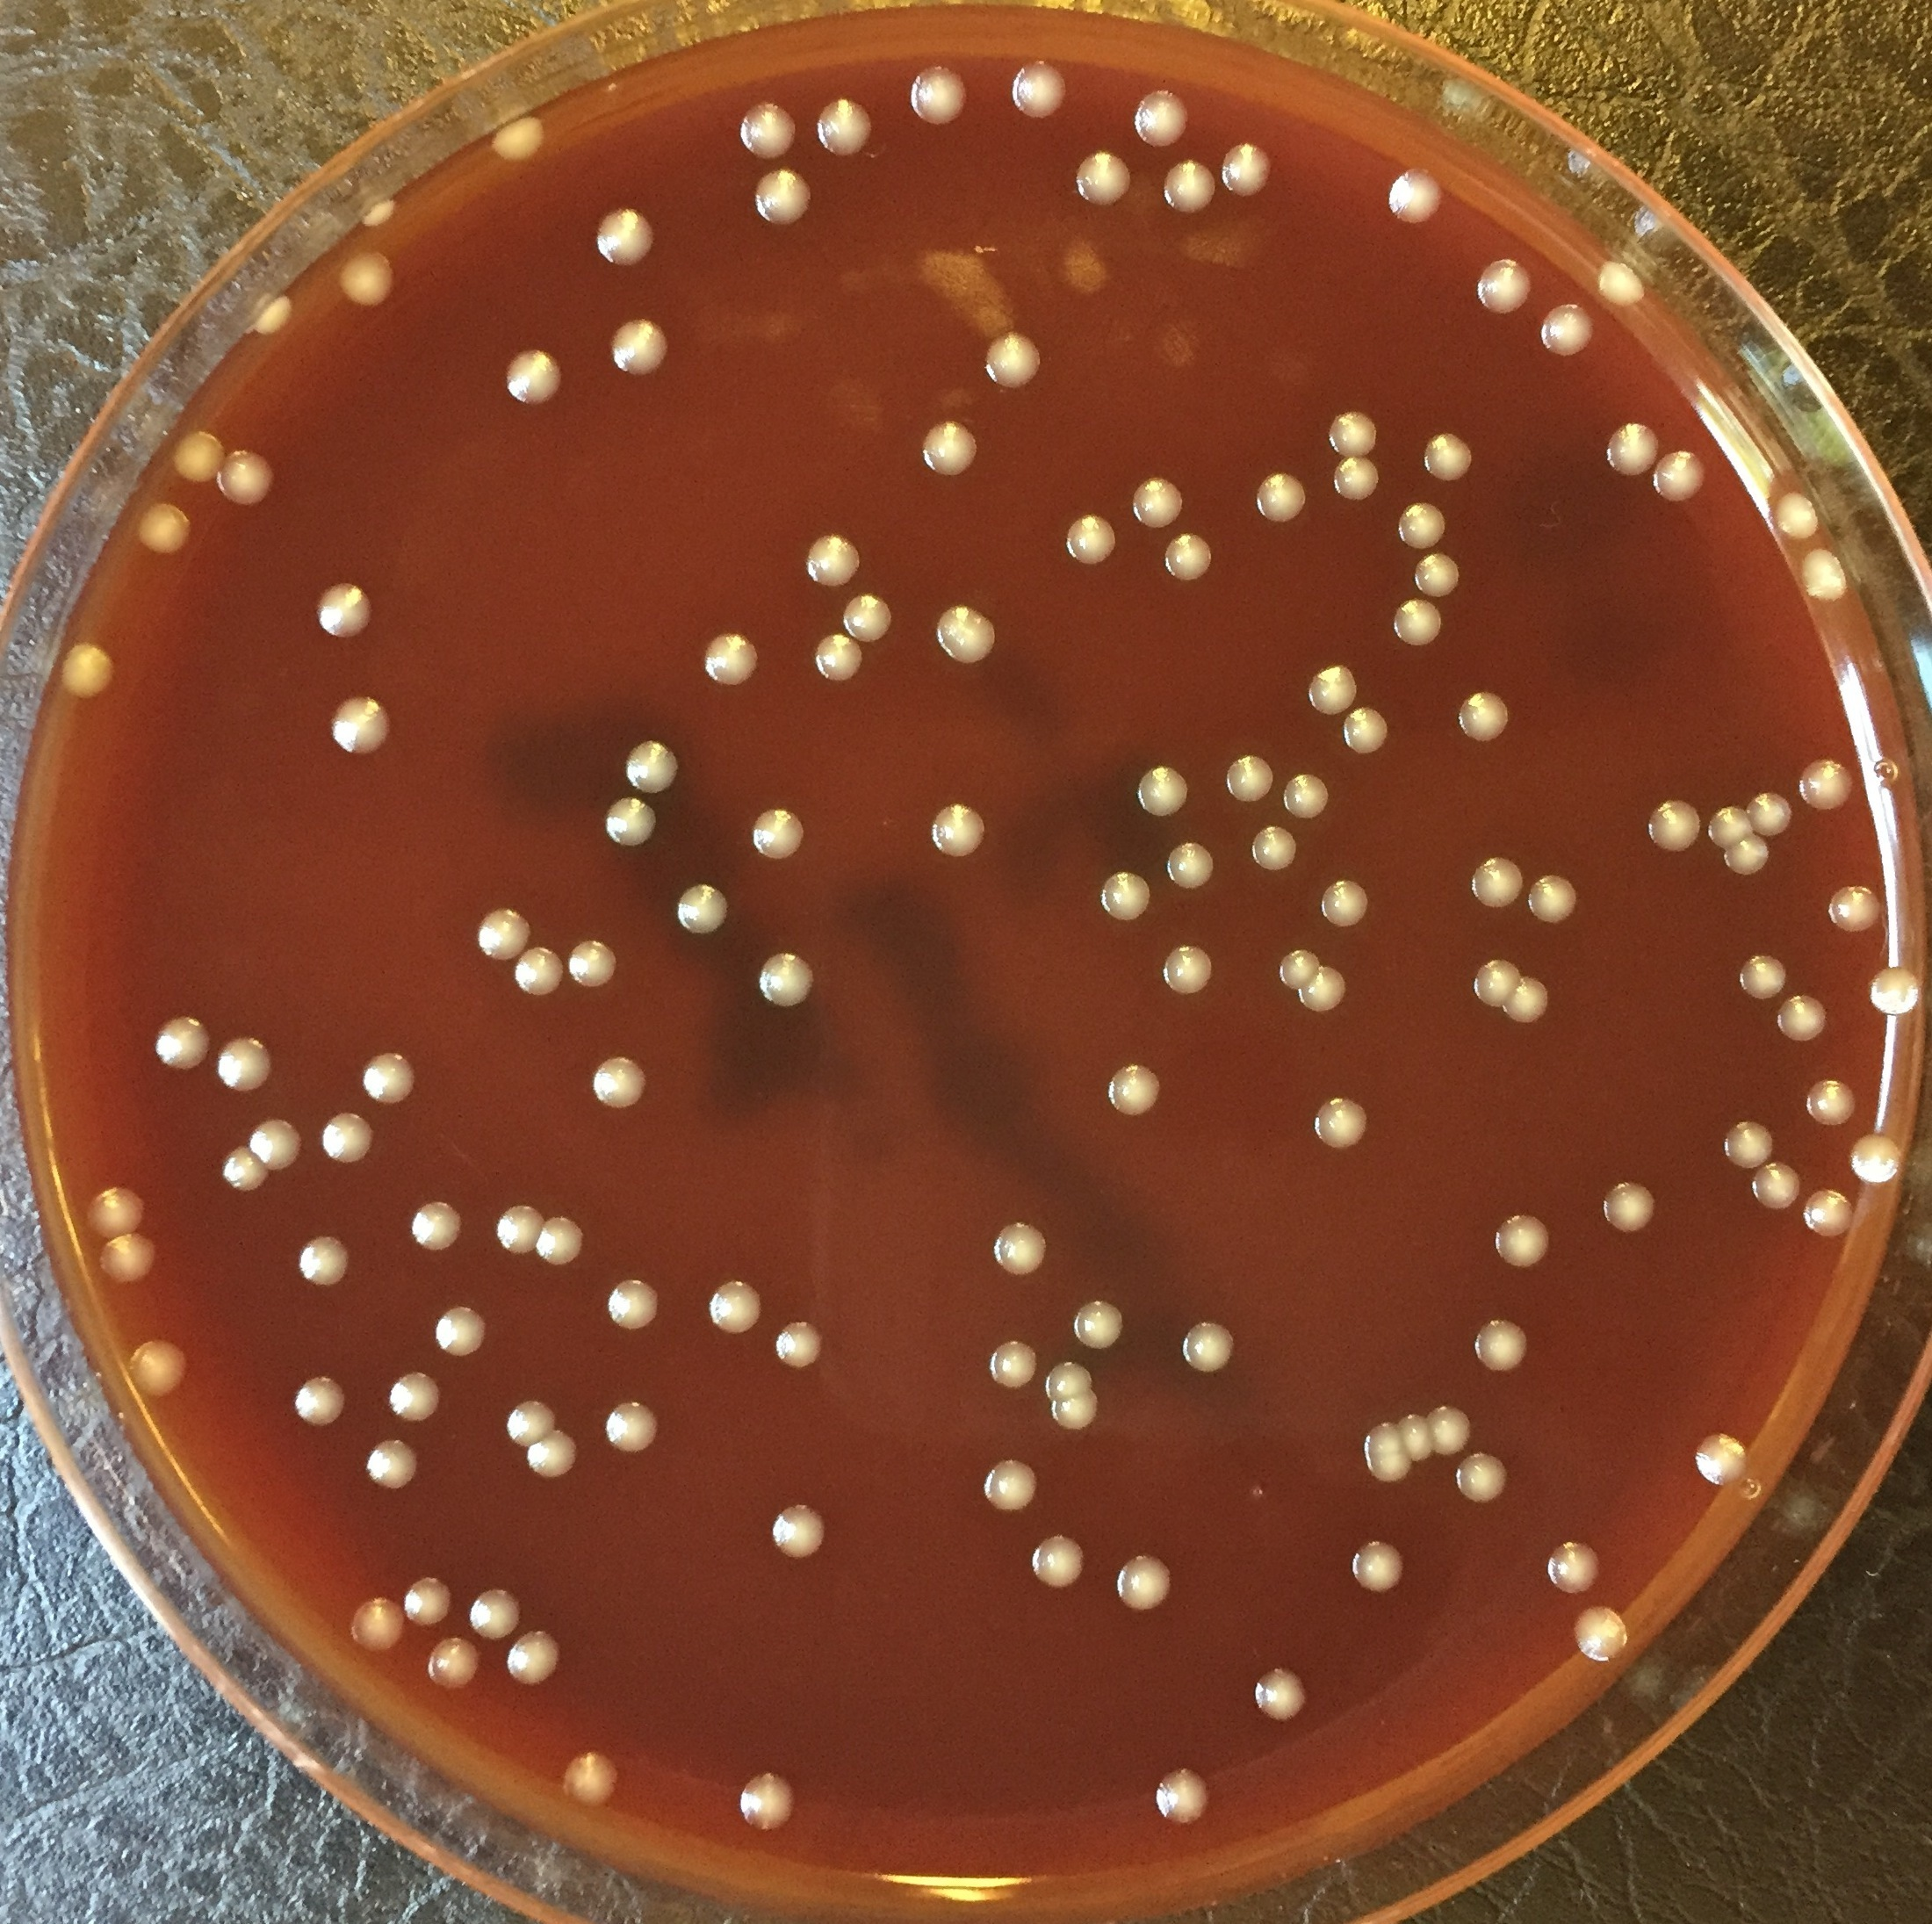sp06: (1572, 1600, 1646, 1676), (933, 597, 1008, 671), (601, 312, 675, 384), (599, 1392, 672, 1461), (594, 201, 663, 271), (1112, 1547, 1179, 1616), (1026, 1529, 1091, 1600), (559, 1746, 626, 1813), (1796, 756, 1865, 821), (737, 1769, 807, 1832), (913, 418, 980, 483), (1008, 56, 1074, 123), (980, 331, 1045, 396), (326, 694, 393, 758), (210, 446, 279, 507), (464, 1577, 524, 1647), (737, 99, 802, 162), (906, 65, 971, 129), (970, 1457, 1037, 1519), (984, 1216, 1051, 1277), (1488, 1210, 1555, 1272), (1690, 1427, 1757, 1489), (619, 735, 682, 798), (358, 1047, 421, 1110), (215, 1032, 279, 1096), (1523, 869, 1590, 929), (347, 1591, 411, 1653), (1389, 592, 1453, 654), (1132, 86, 1193, 150), (145, 1015, 208, 1077), (516, 1420, 582, 1480), (1149, 1762, 1209, 1827), (1474, 254, 1534, 319), (361, 1432, 423, 1494), (672, 877, 733, 939), (472, 902, 534, 964), (1250, 1661, 1313, 1721), (753, 950, 816, 1010), (1796, 541, 1854, 606), (1072, 150, 1137, 208), (605, 1272, 661, 1339), (1158, 155, 1215, 222), (130, 1336, 190, 1397), (770, 1501, 830, 1563), (1546, 1535, 1606, 1596), (1645, 795, 1705, 856), (1103, 1061, 1165, 1121), (564, 934, 626, 994), (1178, 1320, 1241, 1378), (1384, 169, 1447, 227), (314, 580, 372, 643), (100, 1226, 164, 1284), (925, 803, 991, 860), (1312, 1094, 1371, 1154), (587, 1052, 647, 1112), (294, 1233, 356, 1291), (1128, 477, 1190, 536), (814, 97, 876, 155), (511, 943, 573, 1001), (321, 1105, 379, 1166), (751, 169, 814, 226), (703, 631, 767, 687), (802, 532, 866, 588), (751, 803, 807, 867), (1861, 964, 1927, 1018), (487, 113, 555, 164), (1063, 511, 1123, 569), (502, 1630, 566, 1684), (1454, 687, 1518, 742), (85, 1182, 150, 1235), (1846, 1128, 1904, 1186), (1601, 1180, 1659, 1239), (1594, 248, 1652, 307), (705, 1279, 765, 1336), (1604, 421, 1666, 476), (249, 1114, 310, 1168), (1650, 449, 1713, 502), (386, 1367, 442, 1425), (425, 1632, 481, 1690), (1805, 1184, 1861, 1242), (1470, 851, 1527, 909), (1156, 939, 1213, 997), (532, 1212, 587, 1272), (1715, 1115, 1775, 1170), (407, 1200, 469, 1253), (1218, 144, 1280, 197), (1356, 1535, 1407, 1598), (1250, 474, 1313, 525), (1070, 1299, 1128, 1353), (1294, 962, 1354, 1015), (841, 588, 894, 648), (1453, 1448, 1509, 1503), (1475, 1316, 1530, 1373), (1773, 490, 1830, 544), (807, 633, 864, 687), (502, 345, 561, 398), (58, 640, 109, 699), (1750, 1159, 1803, 1216), (1539, 303, 1595, 356), (1826, 883, 1884, 934), (1717, 832, 1775, 883), (1361, 1422, 1408, 1484), (293, 1373, 346, 1427), (1162, 529, 1216, 581), (1394, 497, 1447, 551), (136, 499, 190, 551), (435, 1302, 487, 1358), (1317, 877, 1373, 929), (599, 796, 656, 847), (770, 1321, 829, 1371), (1421, 433, 1479, 483), (335, 252, 395, 300), (1096, 870, 1158, 916), (1775, 992, 1830, 1043), (1165, 835, 1220, 886), (1733, 953, 1791, 1001), (494, 1203, 546, 1254), (1326, 407, 1378, 458), (402, 1575, 451, 1630), (985, 1341, 1040, 1390), (1135, 763, 1190, 812), (1248, 823, 1304, 870), (1394, 1413, 1440, 1471), (1807, 1077, 1858, 1128), (1306, 664, 1359, 714), (1280, 770, 1333, 819), (1333, 453, 1386, 502), (224, 1143, 273, 1196), (1220, 754, 1273, 802), (1414, 548, 1461, 601), (1042, 1357, 1096, 1402), (1424, 1406, 1474, 1455), (1502, 976, 1551, 1025), (1747, 789, 1796, 839), (1340, 705, 1389, 754), (1470, 957, 1521, 1004), (175, 432, 226, 479), (501, 1397, 554, 1443), (1706, 796, 1752, 849), (1042, 1387, 1096, 1427), (249, 296, 294, 335), (1274, 951, 1319, 988), (361, 197, 402, 231)
